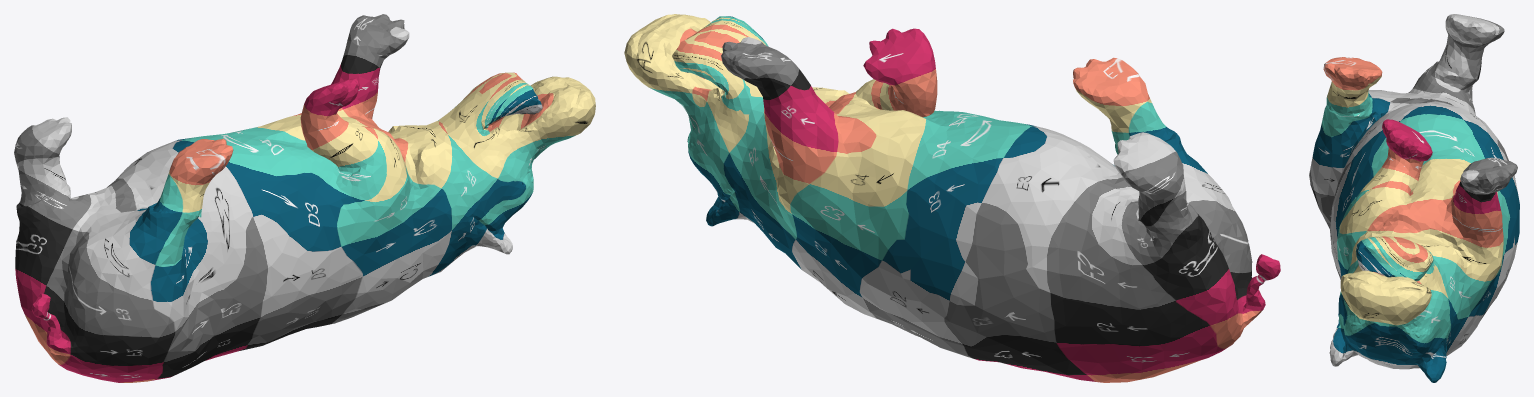
The model's file is cougar_03-hippo_04.obj.
3 renders of one model, left to right at view 1: azimuth 30°, elevation 25°; view 2: azimuth 150°, elevation 25°; view 3: azimuth 270°, elevation 25°, orthographic. The views are drawn at different scales.
Visible parts, largest first — view 1: cougar_03-hippo_04_export; view 2: cougar_03-hippo_04_export; view 3: cougar_03-hippo_04_export.
Part boxes in pixels (left/top/right/bottom): cougar_03-hippo_04_export: left=14, top=14, right=595, bottom=382; cougar_03-hippo_04_export: left=624, top=14, right=1280, bottom=382; cougar_03-hippo_04_export: left=1309, top=14, right=1519, bottom=382.
Size of the model in its own units: 0.996 by 0.4291 by 0.3337.
